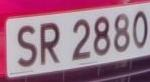0: (132, 5, 149, 56)
2: (69, 14, 94, 66)
8: (92, 12, 113, 61), (112, 9, 132, 58)
R: (38, 16, 63, 72)
S: (15, 18, 39, 74)
